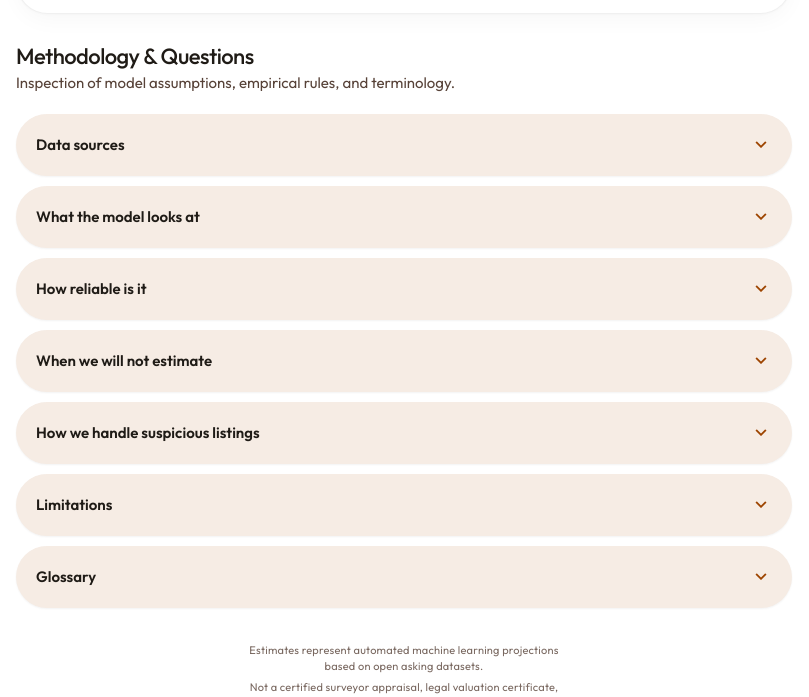
Test case: P8b (f): pipeline + FAQ copy is data-driven › the refusal FAQ interpolates the /meta thresholds
(page scrolled)
Click the button "When we will not estimate". click: (124, 360)
box: [16,330,792,392]
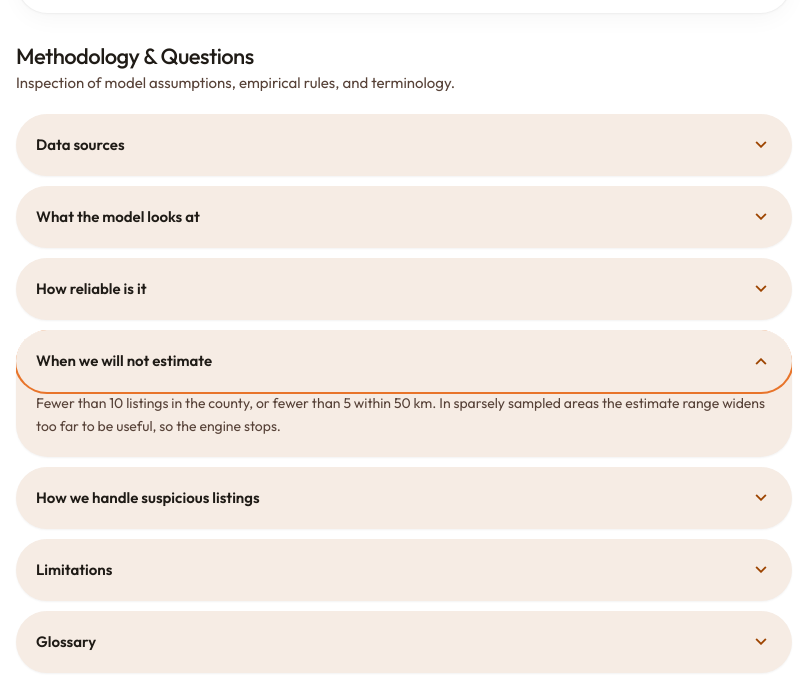
Now the text "Fewer than 10 listings in the county, or fewer than 5 within 50 km" is shown, box [36,394,765,435]
